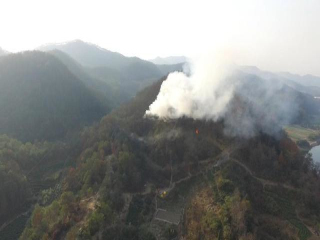smoke: (142, 47, 291, 136)
